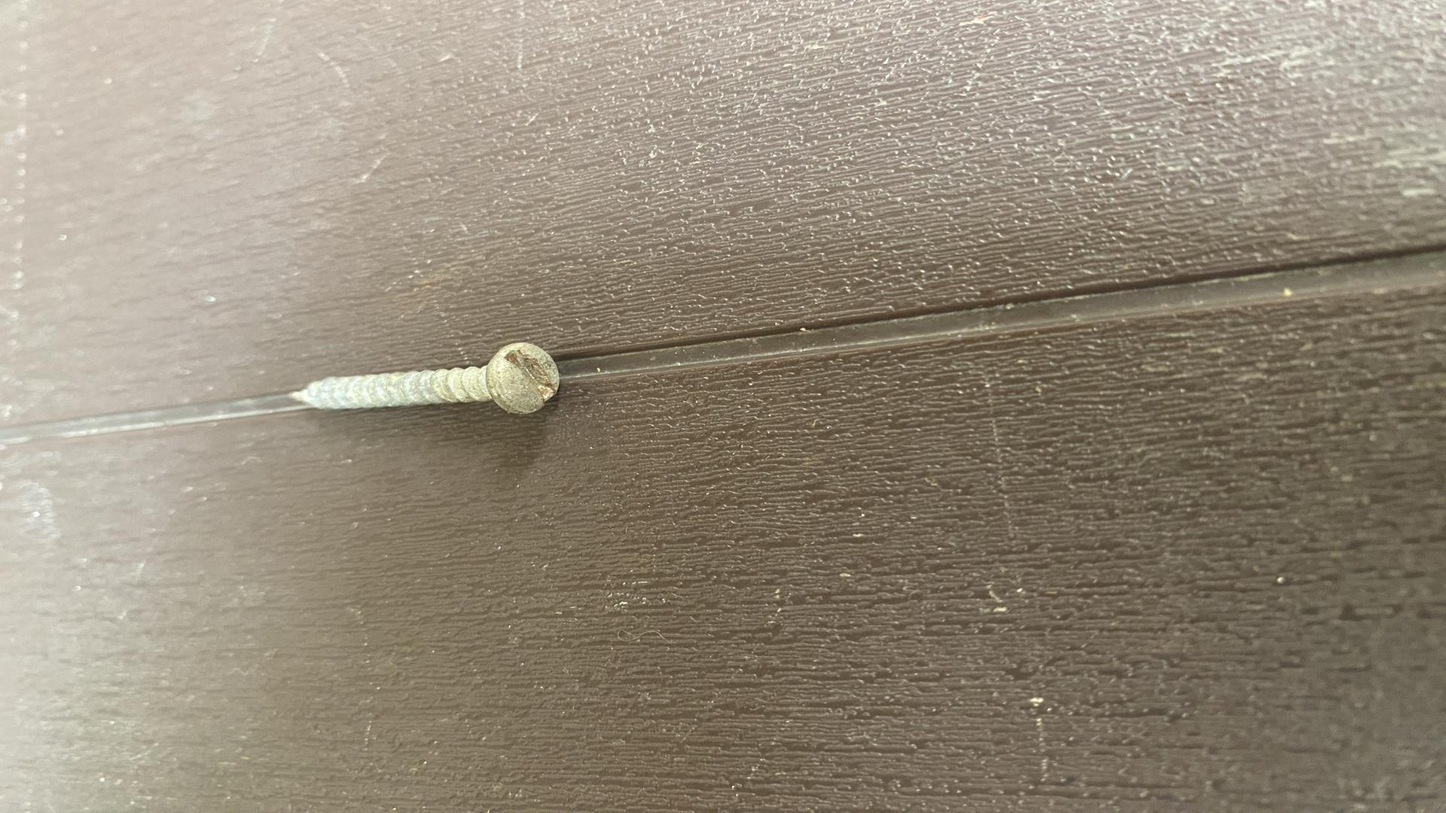screw: (249, 351, 608, 428)
